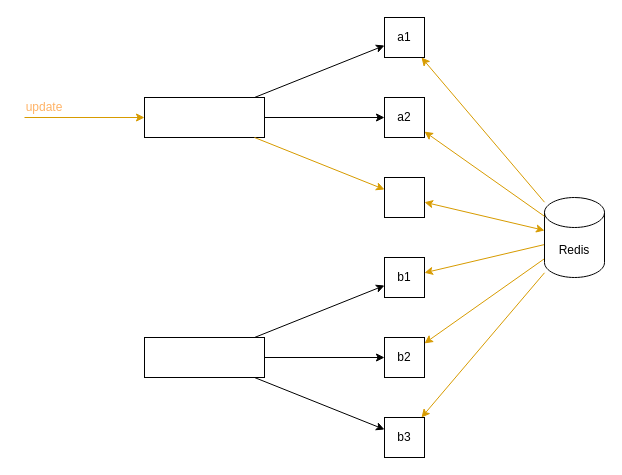
This 622x475 diagram has some shape labels left out. The centre of each missing label's shape, as x and y in pixels:
"a3" goes at pixel 404 197.
"LB service a" goes at pixel 204 117.
"LB service b" goes at pixel 204 357.
